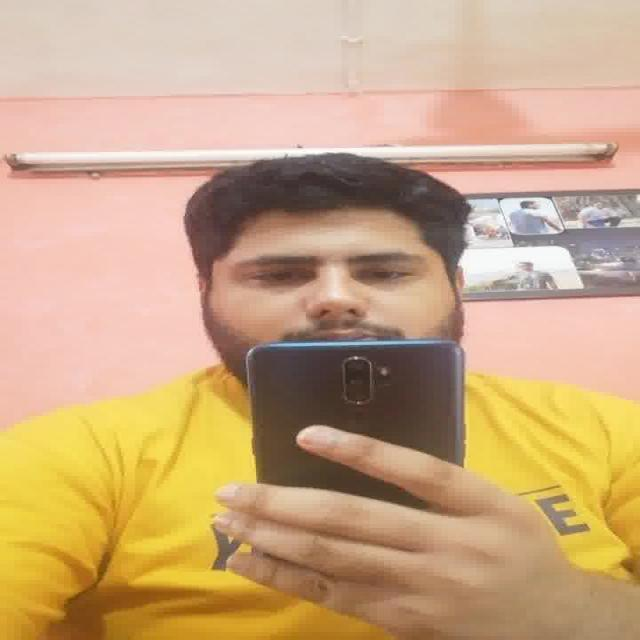Phone: (246, 339, 470, 488)
